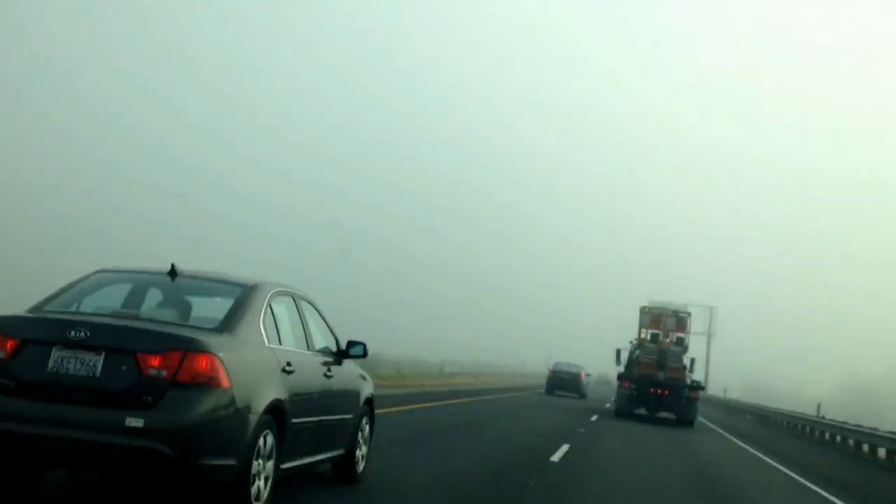bus: (613, 336, 704, 429)
car: (1, 261, 379, 503), (543, 360, 592, 401)
